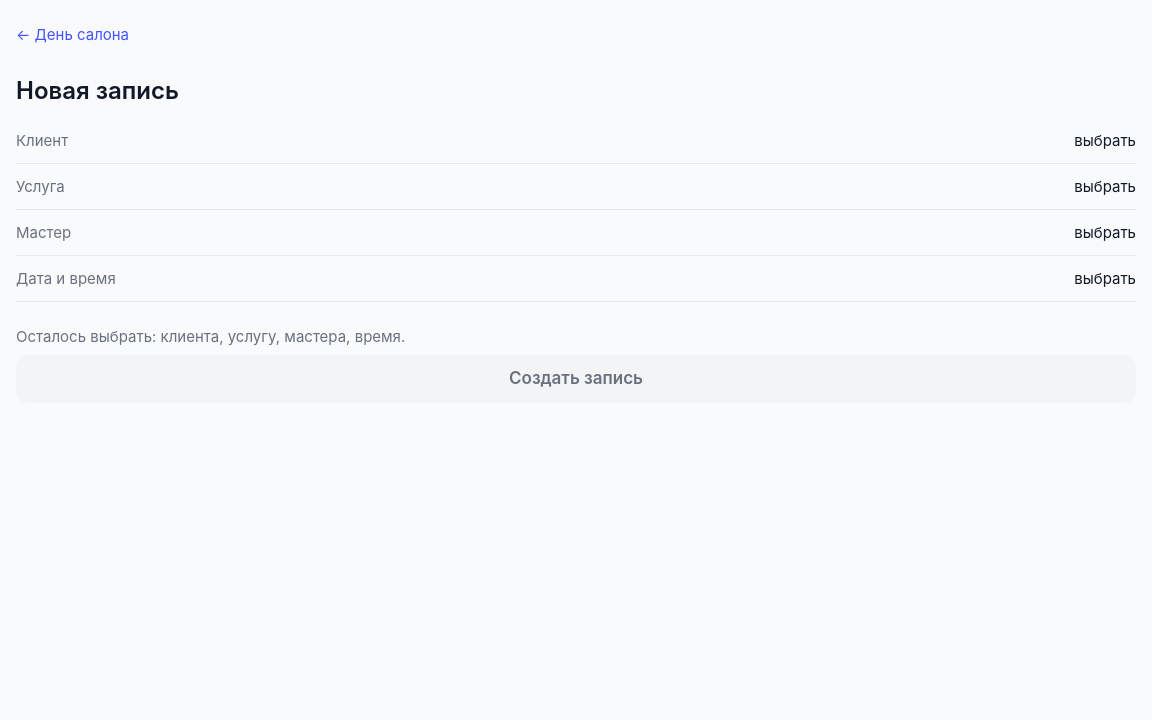
Test case: an unreachable schedule is not «nothing free» (§16) › says the schedule is unavailable on 503
The width and height of the screenshot is (1152, 720).
Click the button labelled "Услуга выбрать" at (40, 186), box [16,164,1136,210]
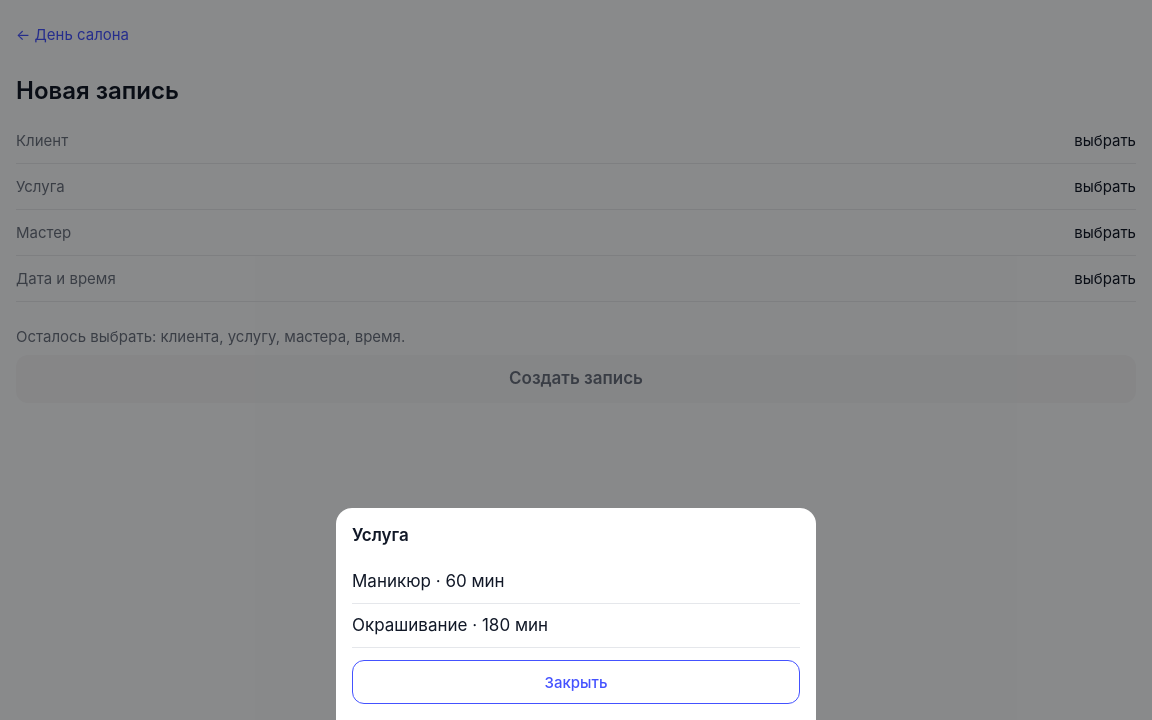
Click the button "Маникюр · 60 мин" at (391, 581), box [352,560,800,604]
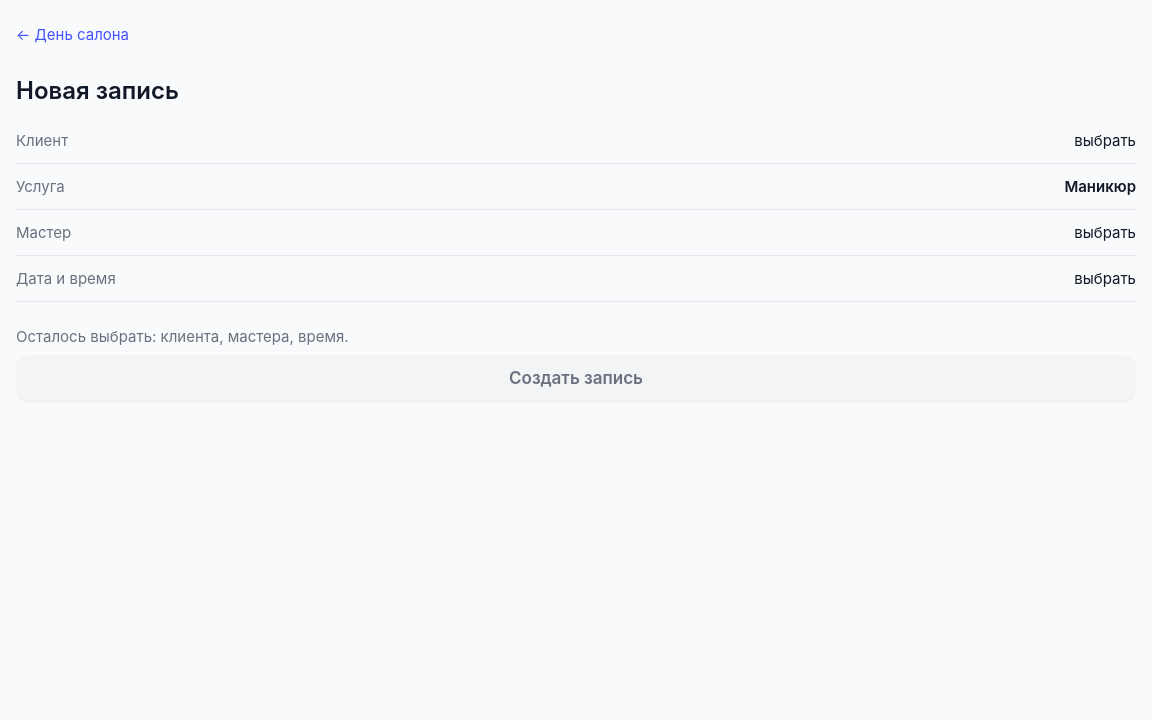
Click the button labelled "Мастер выбрать" at (44, 232), box [16,210,1136,256]
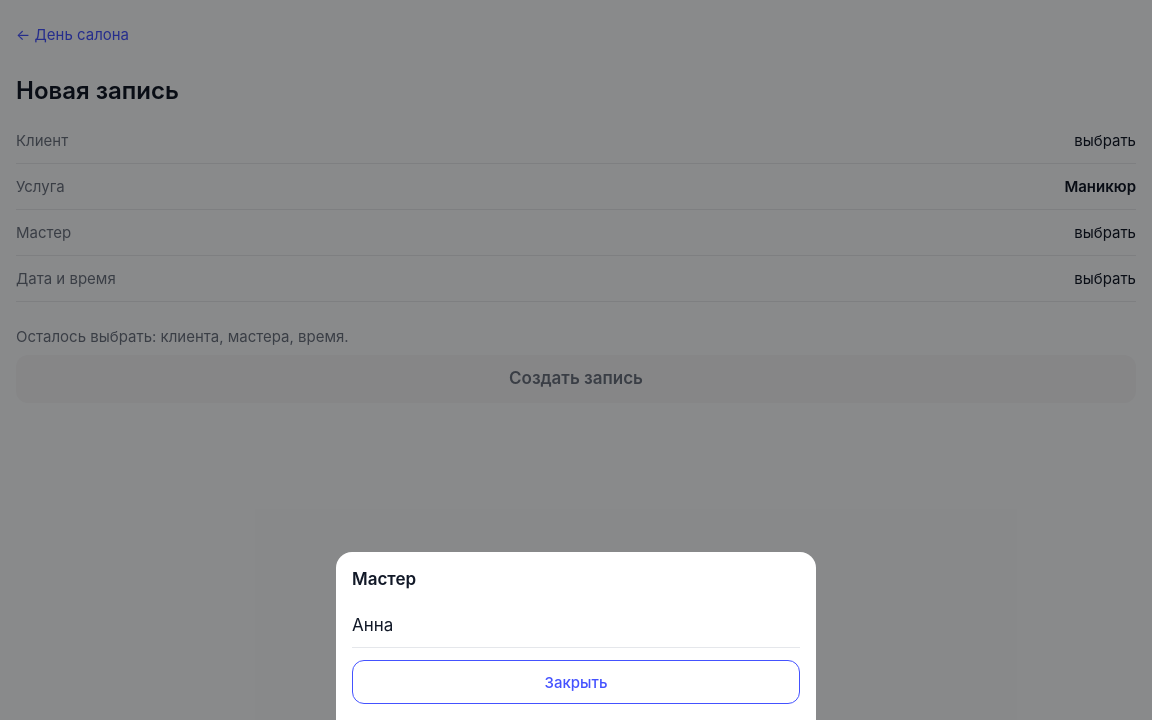
Click the button "Анна" at (373, 625), box [352,604,800,648]
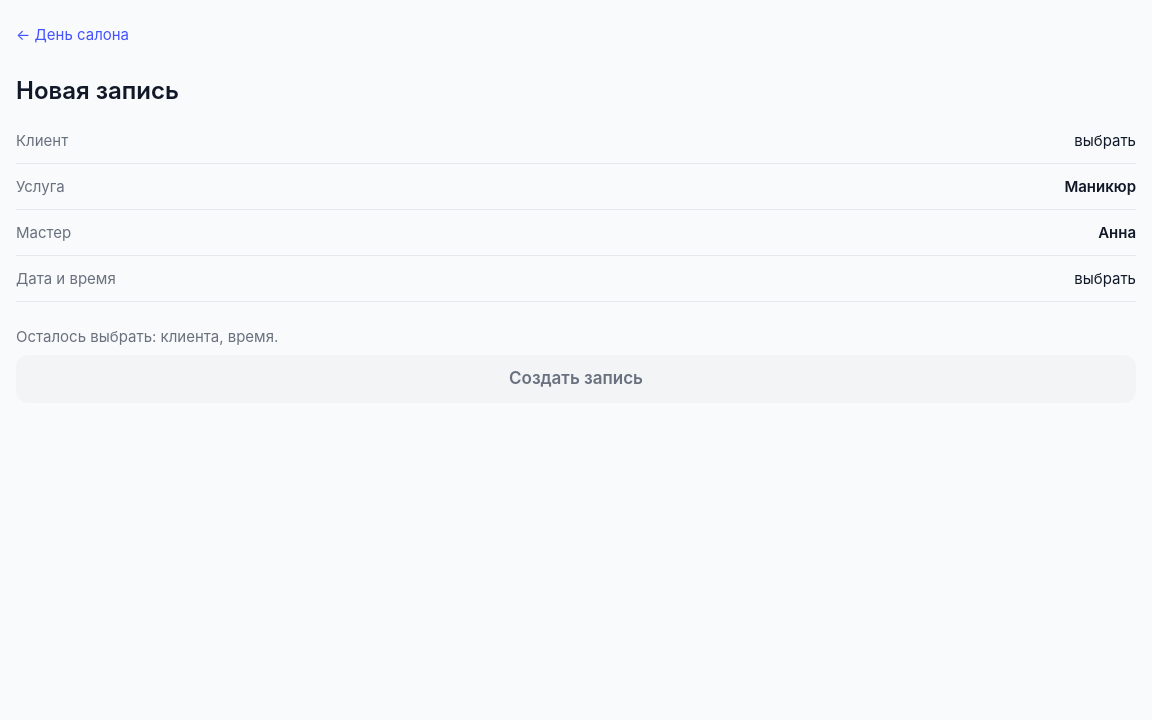
Click the button labelled "Дата и время выбрать" at (66, 278), box [16,256,1136,302]
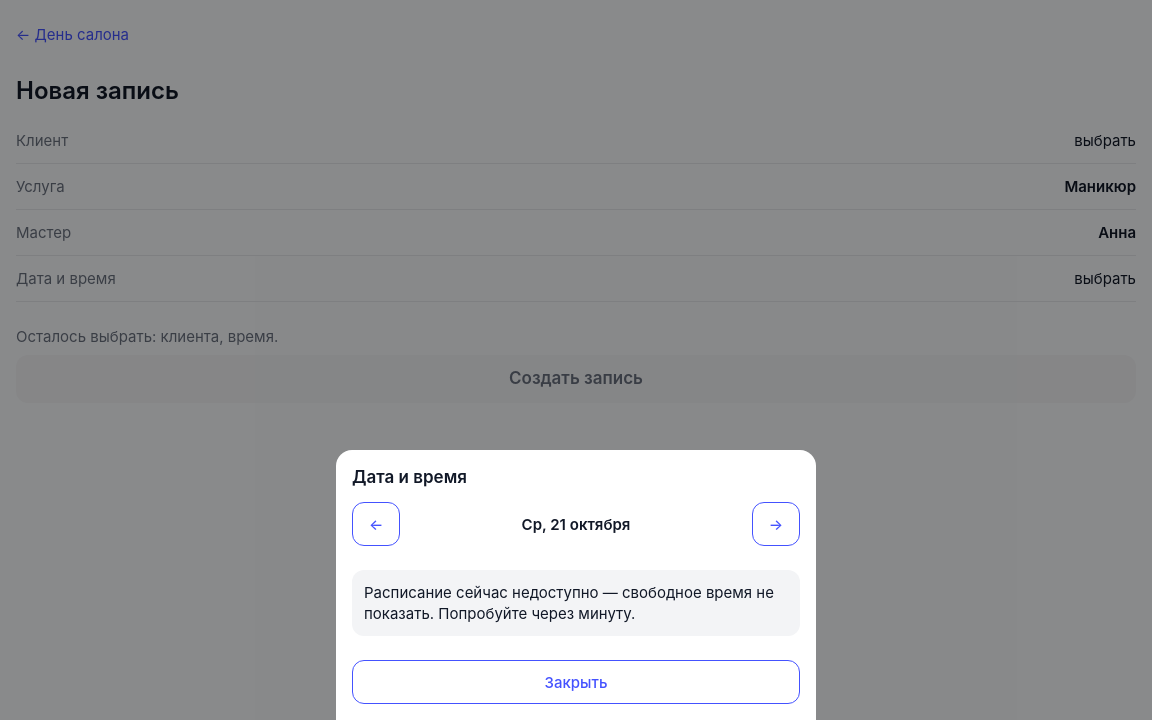
Check: the text "Расписание сейчас недоступно" is shown, box [364,583,774,623]
